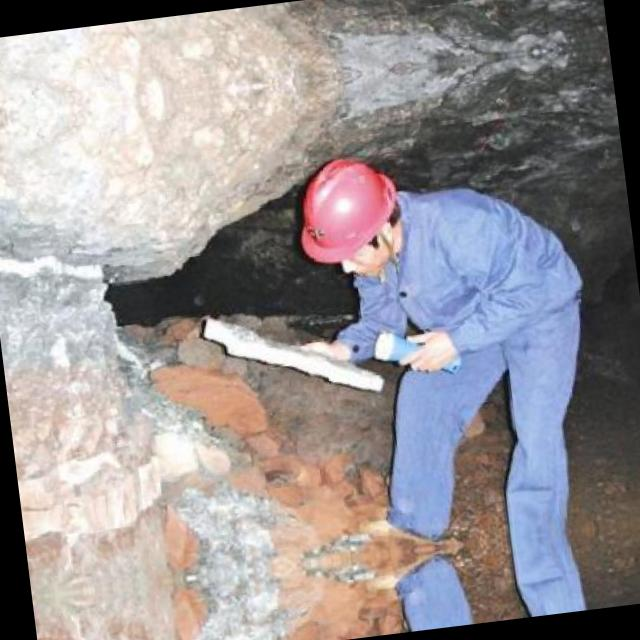helmet: (280, 140, 420, 294)
